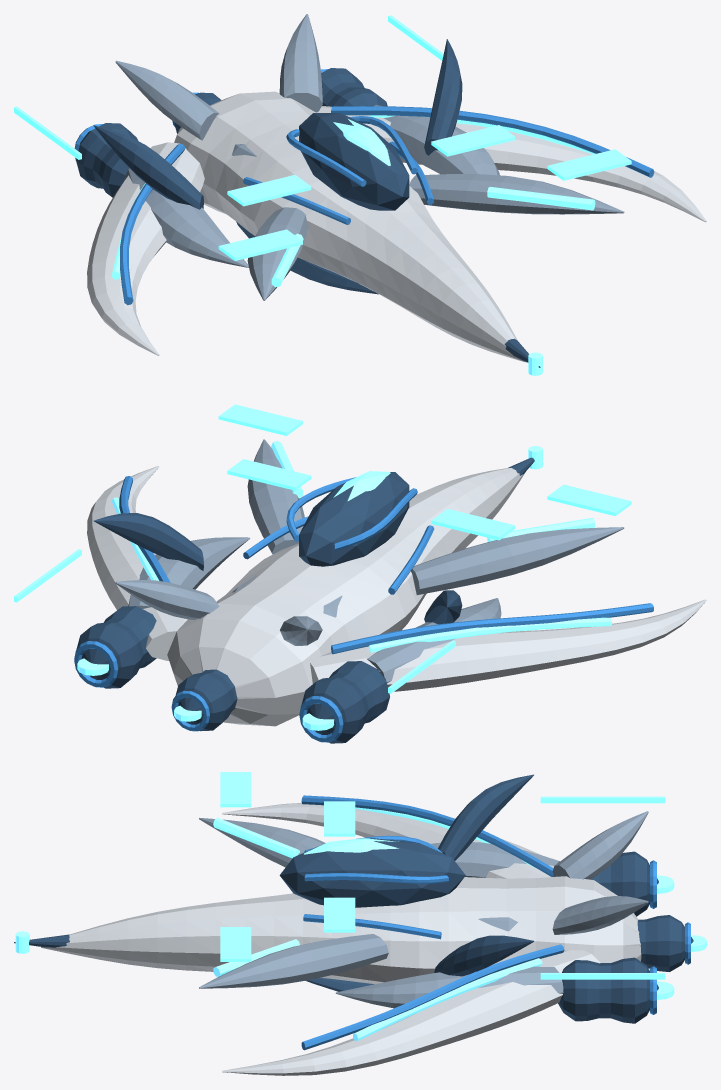
Rendered from SL_VALKYRIE_HQ.glb.
The picture shows the model from 3 angles, top to bottom: view 1: azimuth 30°, elevation 25°; view 2: azimuth 150°, elevation 25°; view 3: azimuth 270°, elevation 25°; orthographic projection. The views are drawn at different scales.
Visible parts, largest first — view 1: armor, plate, dark, accent, V59 trim baked, energy; view 2: armor, dark, plate, accent, V59 trim baked, energy; view 3: armor, dark, plate, accent, V59 trim baked, energy.
Part boxes in pixels (x1,y1,x2,y2): armor: [87, 91, 706, 362]; plate: [115, 14, 624, 300]; dark: [76, 39, 540, 367]; accent: [74, 69, 654, 305]; V59 trim baked: [14, 15, 631, 260]; energy: [112, 115, 595, 375]; armor: [87, 466, 706, 726]; dark: [76, 457, 534, 743]; plate: [115, 439, 624, 683]; accent: [74, 476, 653, 742]; V59 trim baked: [14, 404, 631, 693]; energy: [77, 440, 611, 730]; armor: [41, 803, 641, 1075]; dark: [14, 774, 693, 1023]; plate: [199, 811, 648, 1008]; accent: [301, 795, 690, 1050]; V59 trim baked: [220, 772, 665, 979]; energy: [15, 807, 706, 1041].
Size of the model in its own units: 5.83 by 1.65 by 6.39.
